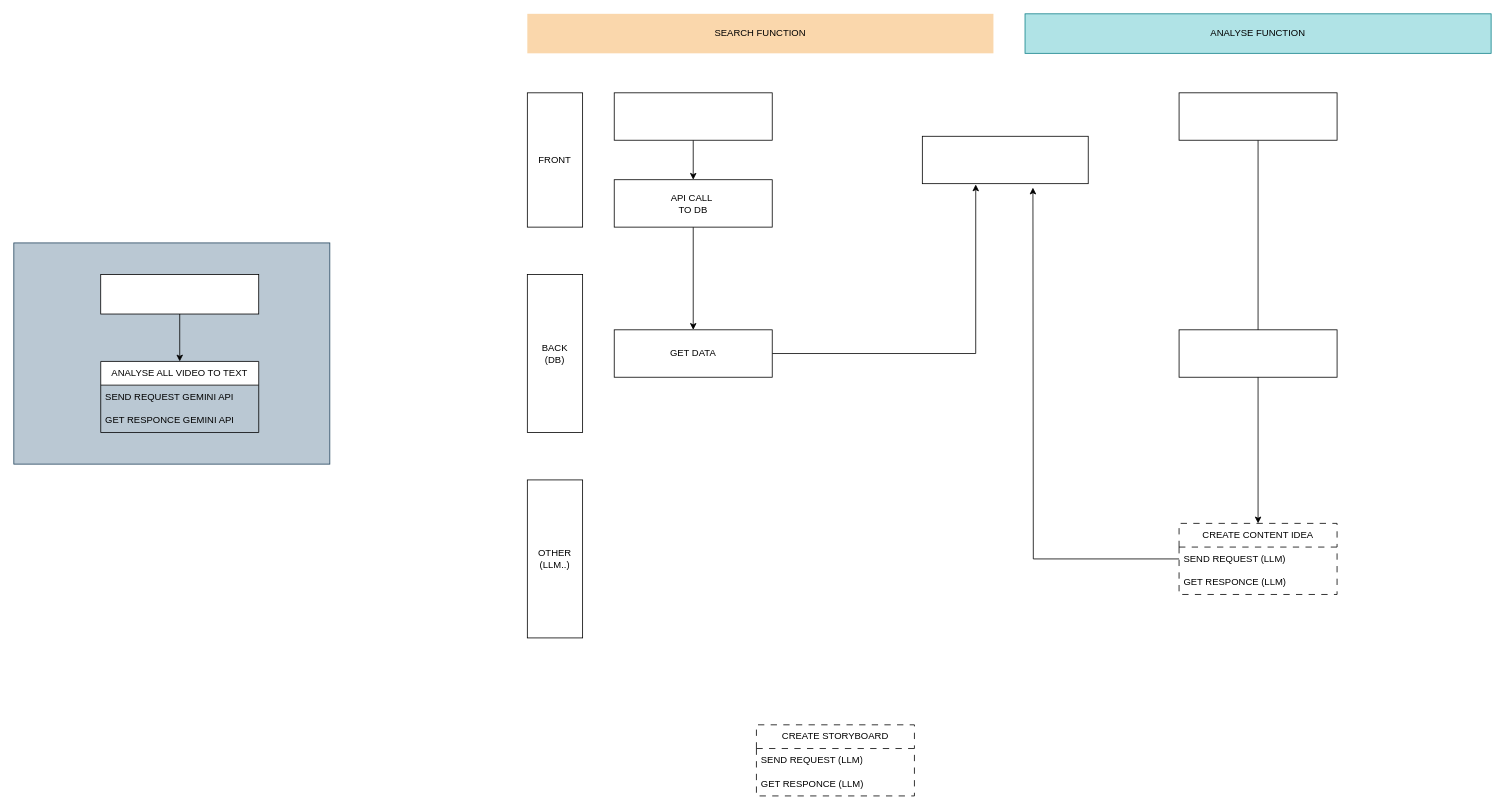
Image size: 1505x810. Some labels were removed from this diagram. Each missing label, with the centre of its shape:
DISPLAY TO FRONTEND: (1005,159)
FILTERED DATA: (1257,353)
GET VIDEOS: (179,294)
USER INPUT "industry: skincare": (692,116)
USER INPUT "name of product": (1257,116)
